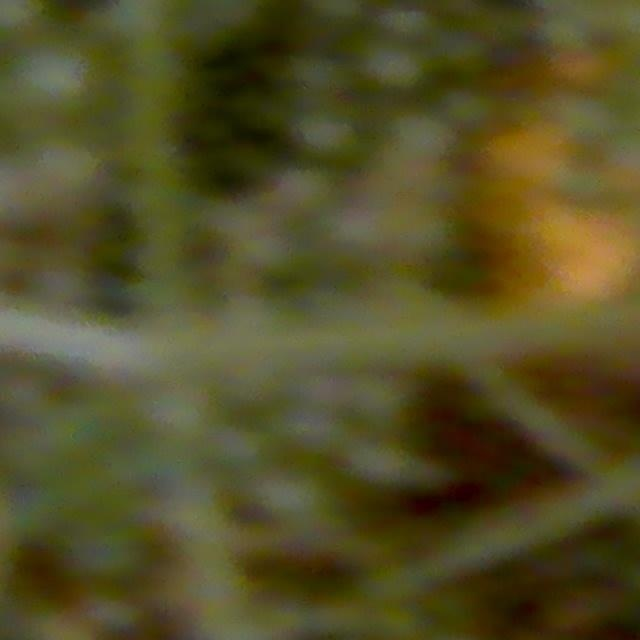SeaGrape: (14, 33, 106, 121)
